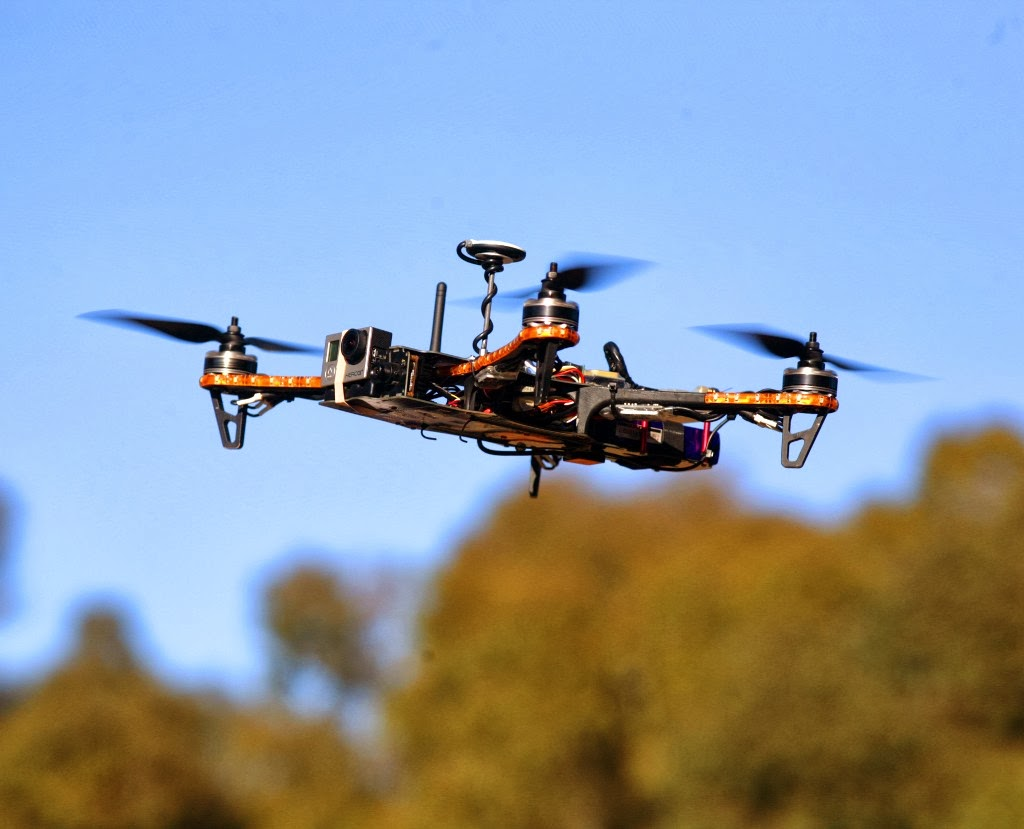drone: (75, 237, 946, 505)
